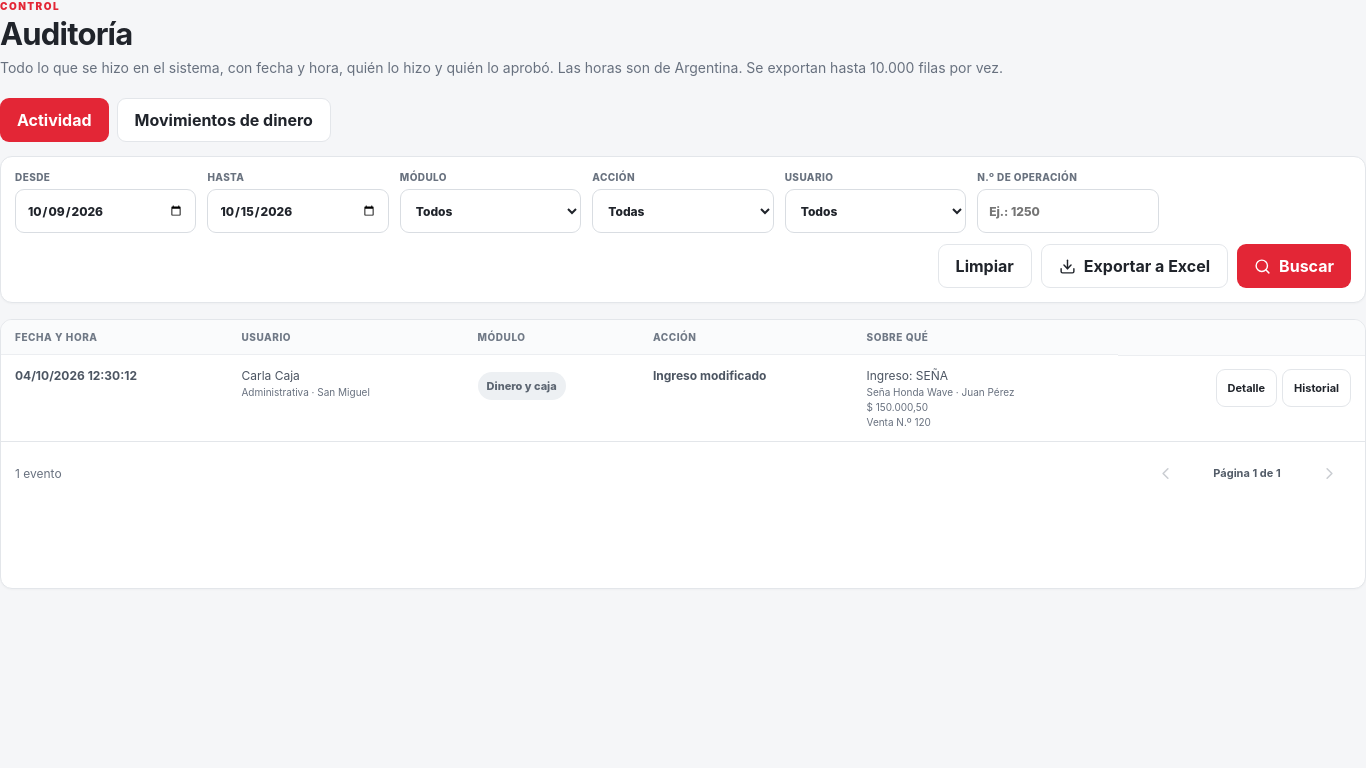
Test case: AuditPage › shows before and after in the event detail
Step 1. Click the button with aria-label "Ver detalle de Ingreso modificado" → (1246, 388), box [1216, 368, 1277, 406]
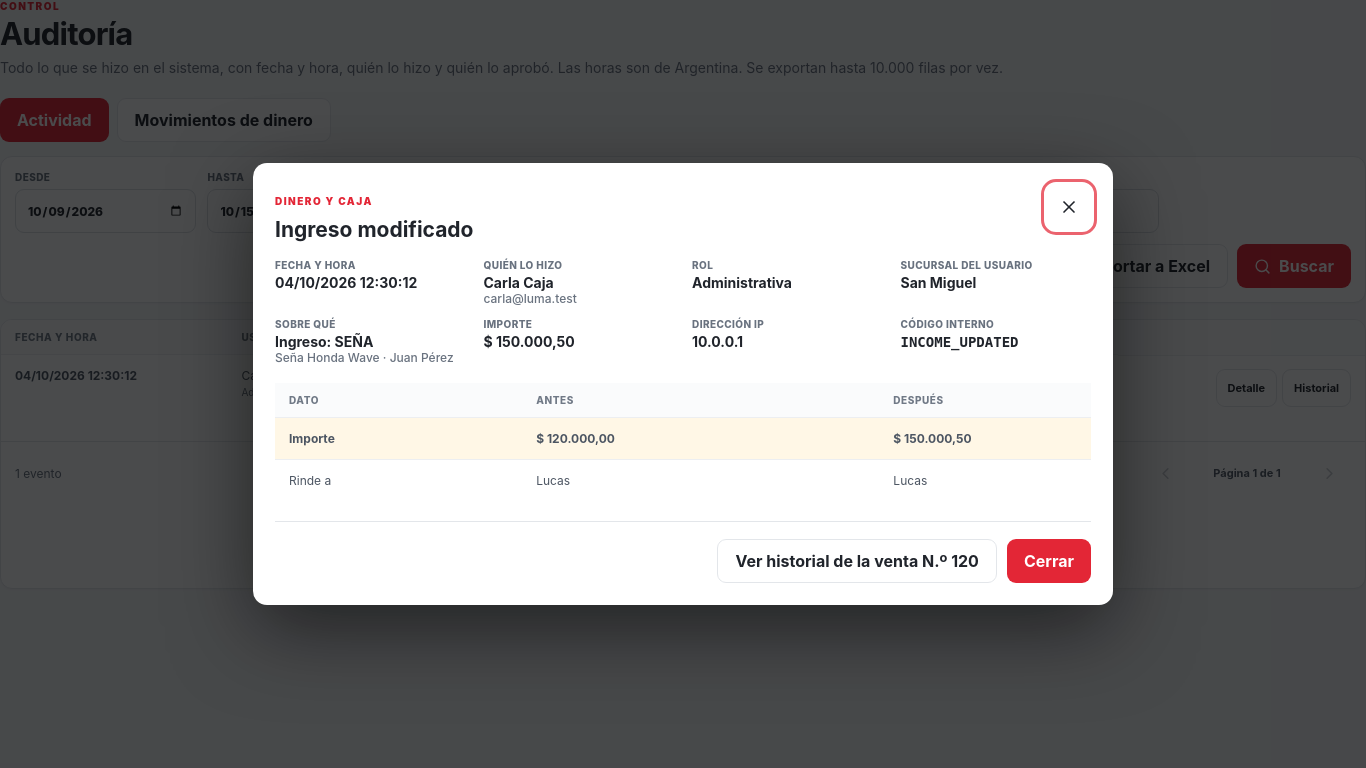
Check: the text "10.0.0.1" is shown, box [692, 333, 743, 350]
